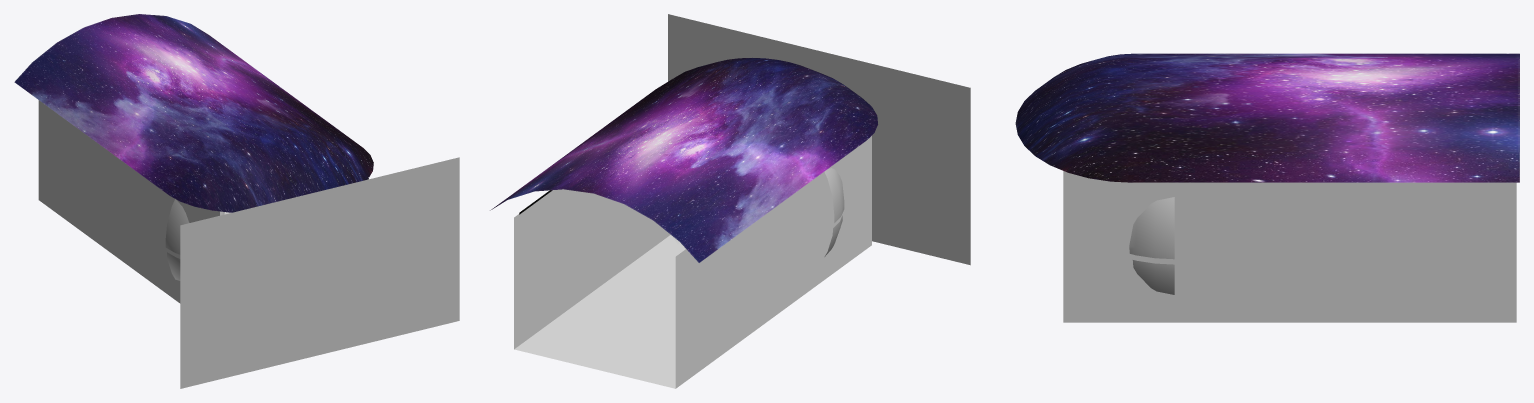
Rendered from CONTROLODEF 1.fbx.
3 views of the same model, side by side, from view 1: azimuth 30°, elevation 25°; view 2: azimuth 150°, elevation 25°; view 3: azimuth 270°, elevation 25° (orthographic). The views are drawn at different scales.
Parts seen in each view (by area): view 1: Sci-Fi Space Station.003, Sci-Fi Space Station.002, Cube.003, Sci-Fi Space Station.001, Cube.001; view 2: Sci-Fi Space Station.002, Sci-Fi Space Station.003, Cube.003, Cube.002, Cube, Cube.001, Sci-Fi Space Station.001, Cube.004; view 3: Sci-Fi Space Station.002, Cube.002, Sci-Fi Space Station.001, Cube.004.
Part boxes in pixels (box(x1,y1,x2,y2)): Sci-Fi Space Station.003: box(180, 157, 459, 388); Sci-Fi Space Station.002: box(14, 14, 373, 212); Cube.003: box(38, 100, 219, 303); Sci-Fi Space Station.001: box(165, 199, 224, 280); Cube.001: box(38, 145, 165, 242); Sci-Fi Space Station.002: box(490, 58, 877, 262); Sci-Fi Space Station.003: box(668, 14, 970, 265); Cube.003: box(675, 136, 871, 388); Cube.002: box(514, 189, 670, 349); Cube: box(514, 235, 685, 388); Cube.001: box(675, 186, 871, 333); Sci-Fi Space Station.001: box(672, 168, 844, 256); Cube.004: box(514, 207, 631, 295); Sci-Fi Space Station.002: box(1015, 53, 1519, 182); Cube.002: box(1063, 171, 1516, 322); Sci-Fi Space Station.001: box(1129, 197, 1174, 294); Cube.004: box(1063, 254, 1516, 259).
Bounding box in the file's own units: 11250 × 7106 × 14538.
